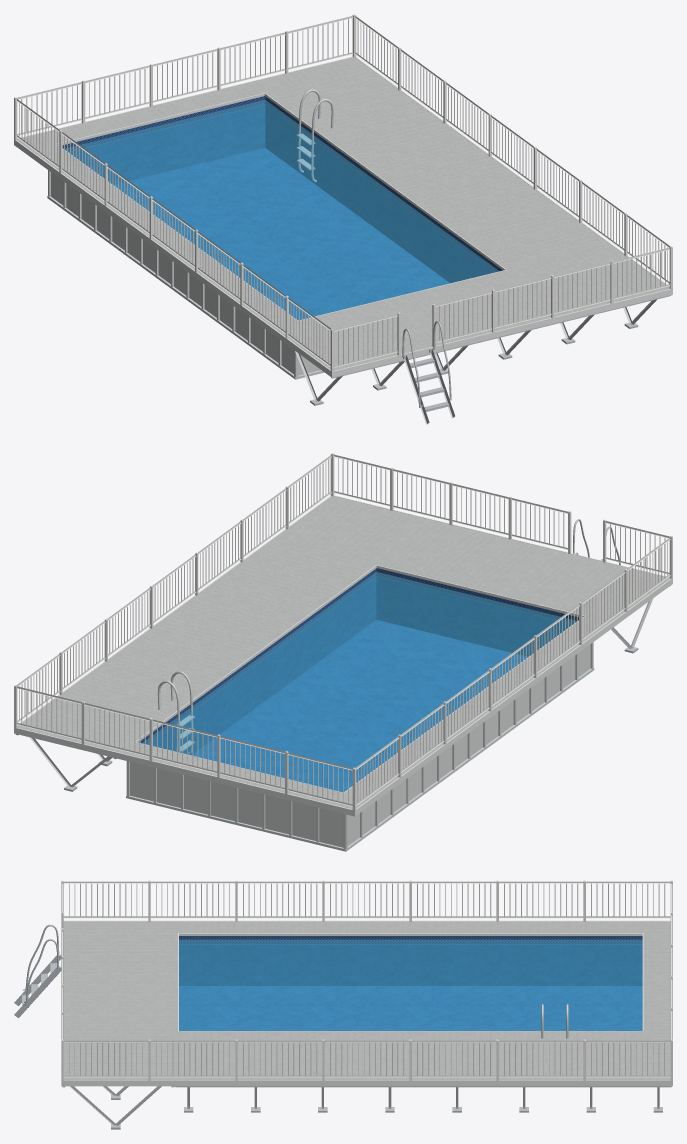
The model's file is kayak-pool-16x32-white-endside-ag-fence.3ce5994e61.glb.
3 views of the same model, one above another, from view 1: azimuth 30°, elevation 25°; view 2: azimuth 150°, elevation 25°; view 3: azimuth 270°, elevation 25° (orthographic). The views are drawn at different scales.
Parts seen in each view (by area): view 1: deck, water, fence, liner_floor, liner_wall, fascia, wall, upright, stud, ladder, steel; view 2: deck, water, fence, liner_floor, liner_wall, wall, fascia, upright, stud, steel; view 3: deck, water, liner_wall, liner_floor, fence, fascia, stud, ladder.
Boxes of the visible parts, <box> form: deck: <box>17,57,669,370</box>; water: <box>65,100,498,320</box>; fence: <box>14,14,672,371</box>; liner_floor: <box>113,148,449,320</box>; liner_wall: <box>62,96,502,282</box>; fascia: <box>14,56,672,377</box>; wall: <box>51,172,320,375</box>; upright: <box>47,170,324,379</box>; stud: <box>274,295,671,405</box>; ladder: <box>402,321,454,424</box>; steel: <box>296,89,333,181</box>; deck: <box>17,496,669,809</box>; water: <box>142,572,576,792</box>; fence: <box>14,453,672,810</box>; liner_floor: <box>191,620,527,792</box>; liner_wall: <box>139,568,578,755</box>; wall: <box>130,644,590,847</box>; fascia: <box>14,495,672,816</box>; upright: <box>126,642,594,851</box>; stud: <box>15,585,670,791</box>; steel: <box>157,671,194,754</box>; deck: <box>63,921,670,1080</box>; water: <box>179,939,642,1030</box>; liner_wall: <box>179,936,642,985</box>; liner_floor: <box>179,986,642,1030</box>; fence: <box>61,880,672,1080</box>; fascia: <box>61,920,672,1086</box>; stud: <box>62,1086,671,1129</box>; ladder: <box>14,924,61,1017</box>.
Size of the model in its own units: 7.93 by 2.15 by 13.79.
Materials: 11 (3 with a texture image).
